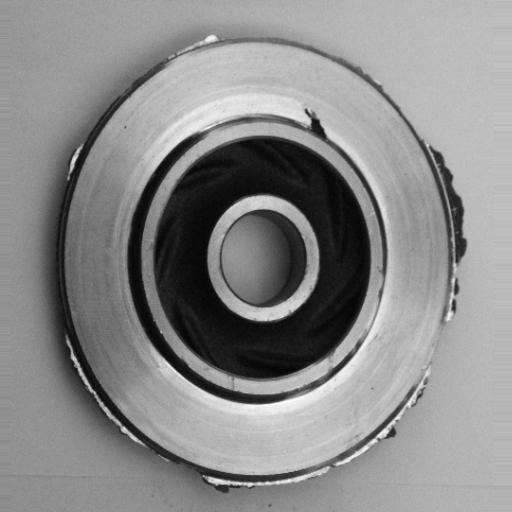casting_with_burr: (54, 31, 469, 494)
crack: (295, 100, 337, 147)
